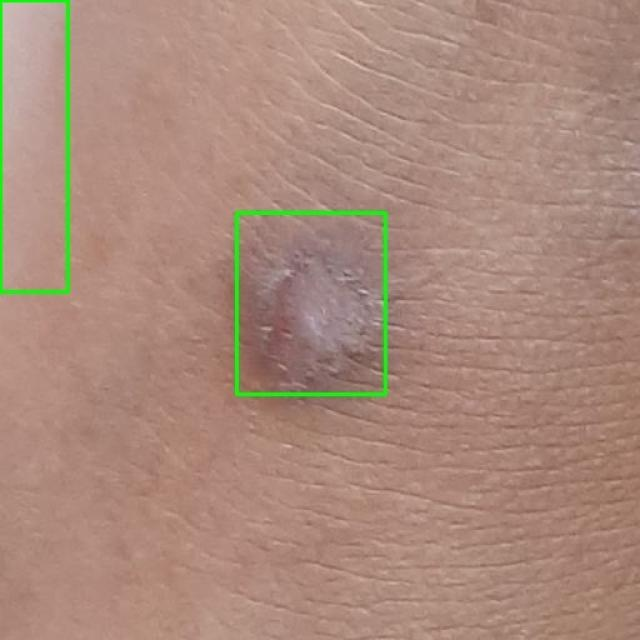Contact Dermatitis: (236, 212, 385, 394), (0, 0, 68, 291)
